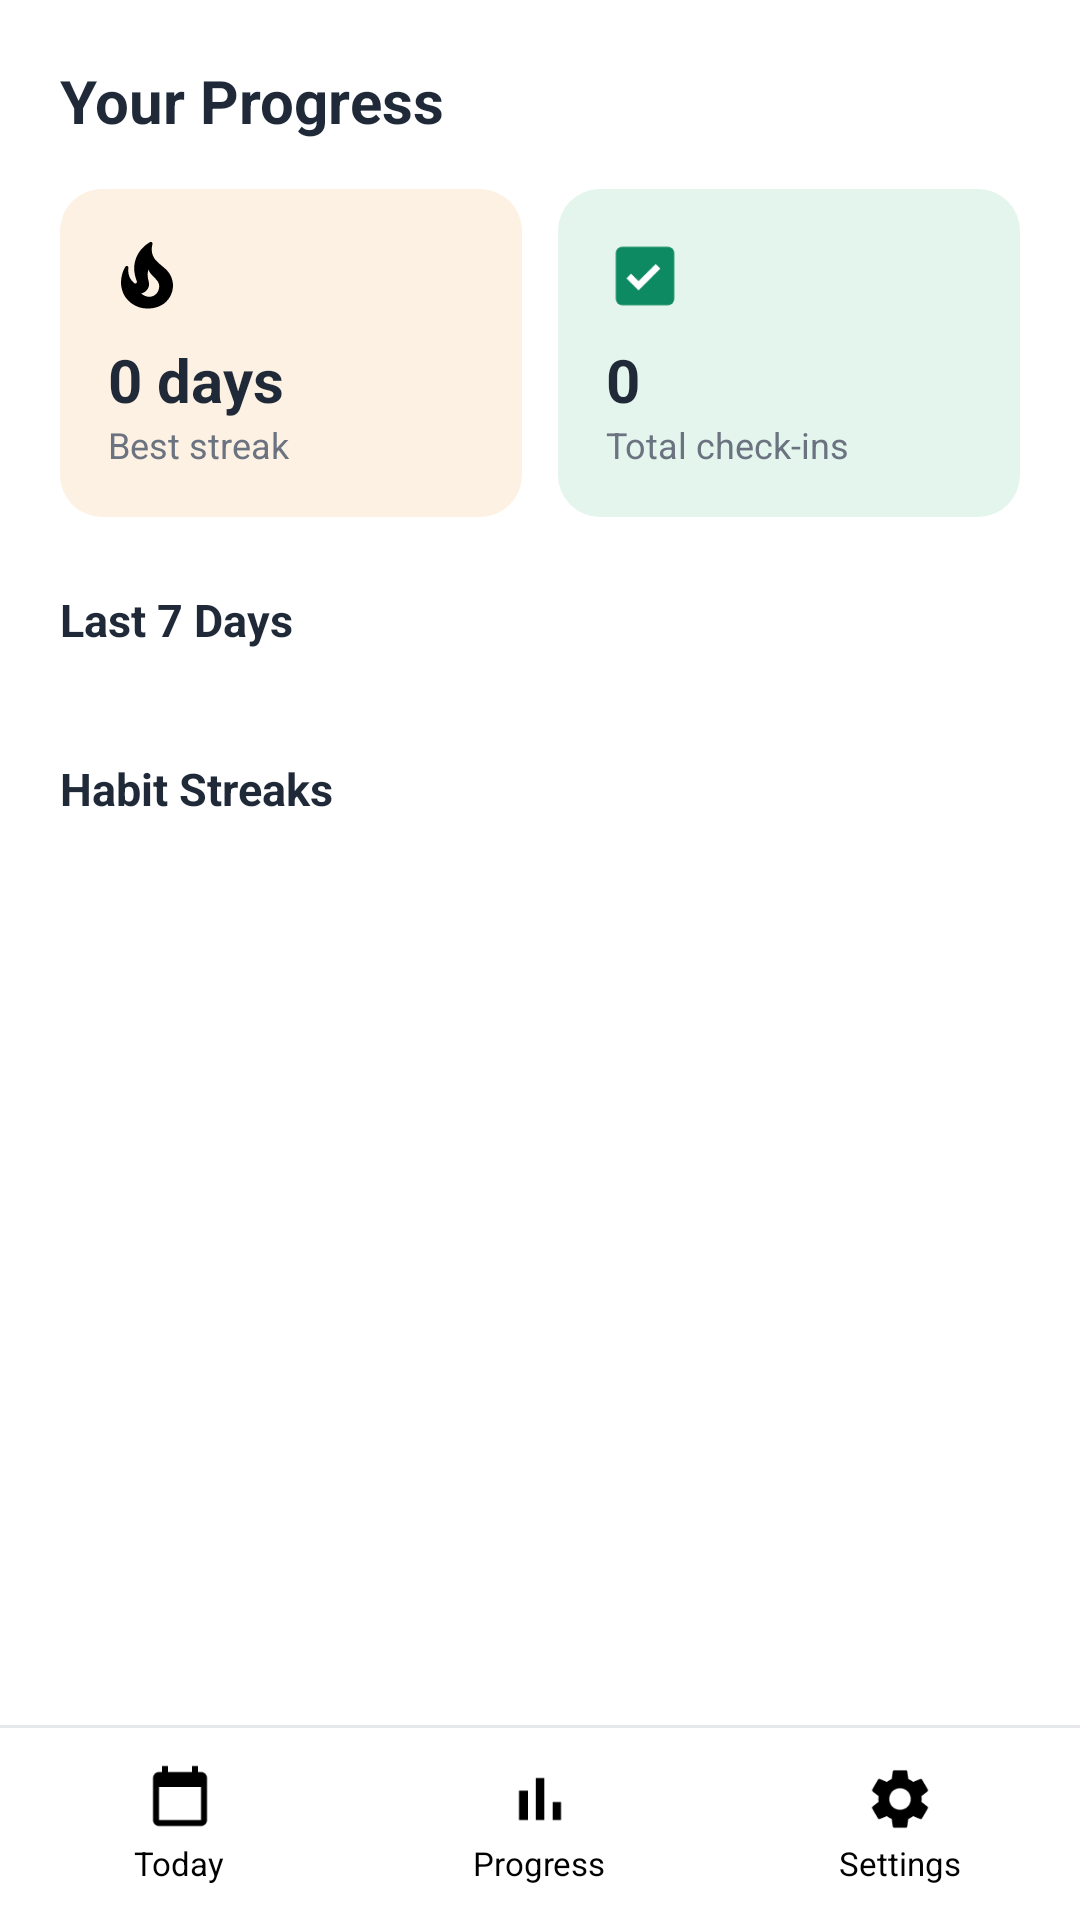

Locate icon controls on the screen. Image size 1080px x 1920px, boxes as (x1, y1, x2, y2).
calendar: (152, 1765, 208, 1827)
chart: (518, 1777, 562, 1821)
checkbox checked: (615, 246, 675, 306)
fire: (121, 242, 173, 309)
